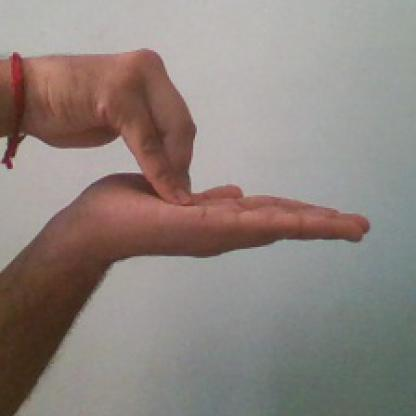Z: (50, 47, 377, 281)
